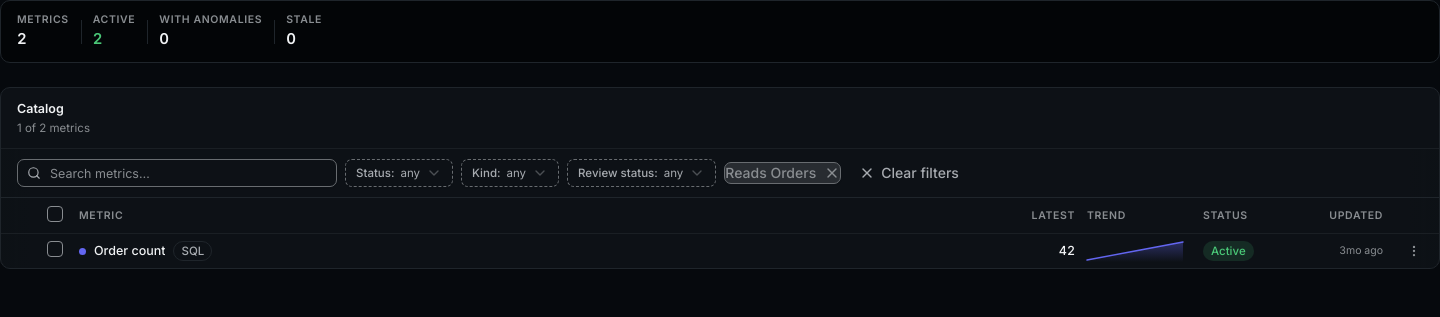
Test: MetricsCatalog — narrowed to one fact table (F7) › lists the metrics that read the table and clears back to the whole catalog
Check: the link "Order count" is shown, box [94,242,166,260]
What coordinates should you click on to do the following:
click the button with aria-label "Stop showing only metrics that read Orders"
I would click on:
 (783, 173)
Its box is [724,162,841,184].
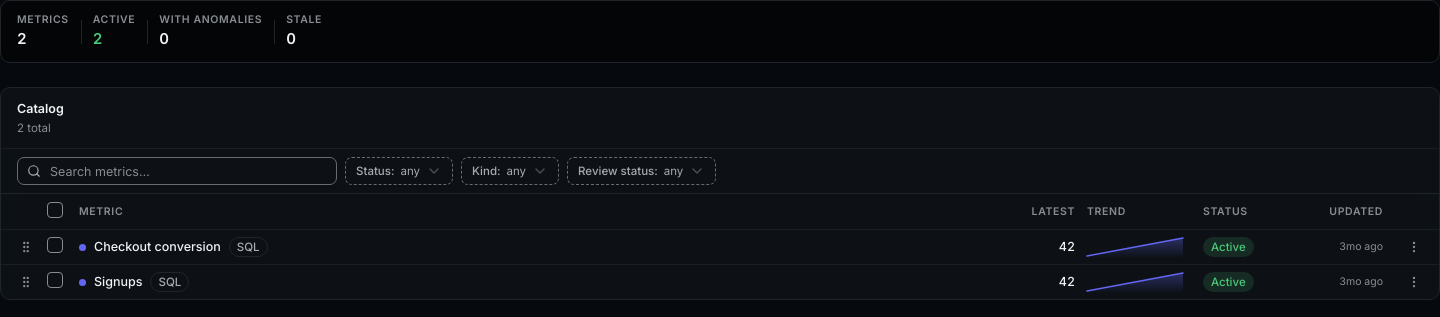
Check: the link "Signups" is shown, box [94,273,142,291]
